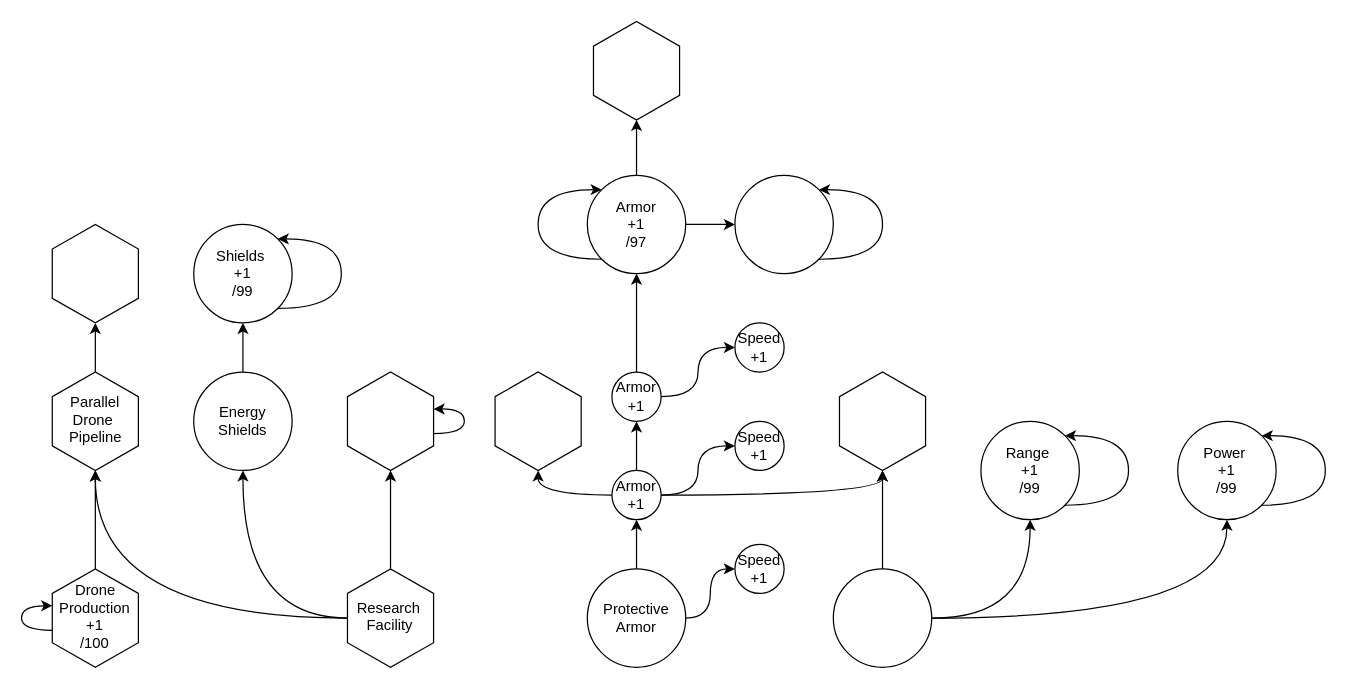
The diagram is 1347 pixels wide and 689 high, and some of its shapes have lost their labels. Here are the shapes that lost their labels. From the top down, the box of each, then its label:
(592, 20, 680, 120): Factory Operations (Armor 4)
(734, 174, 833, 274): Speed +1 /97
(51, 223, 138, 323): Pipeline +1 /5
(346, 371, 434, 470): Research Production +1 /99
(494, 371, 581, 470): Wall Operations
(838, 371, 926, 470): Turret Operations
(832, 568, 932, 667): Plasma Cannon
